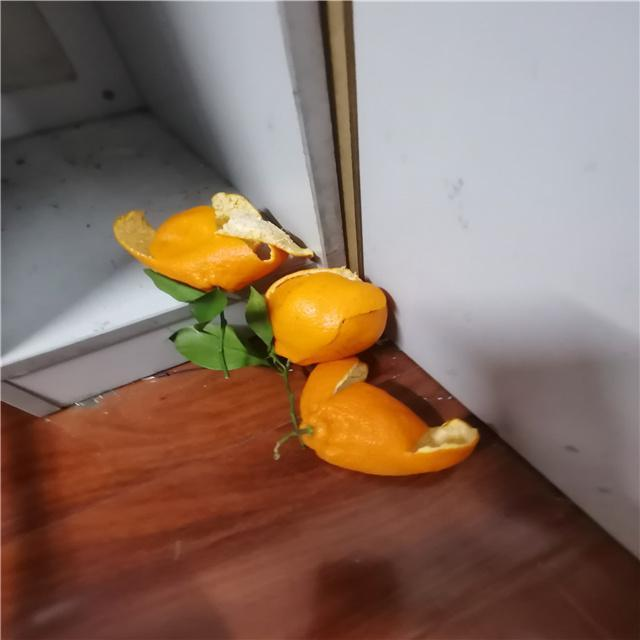orange peel: (300, 354, 480, 478), (116, 190, 298, 305), (273, 266, 391, 360)
